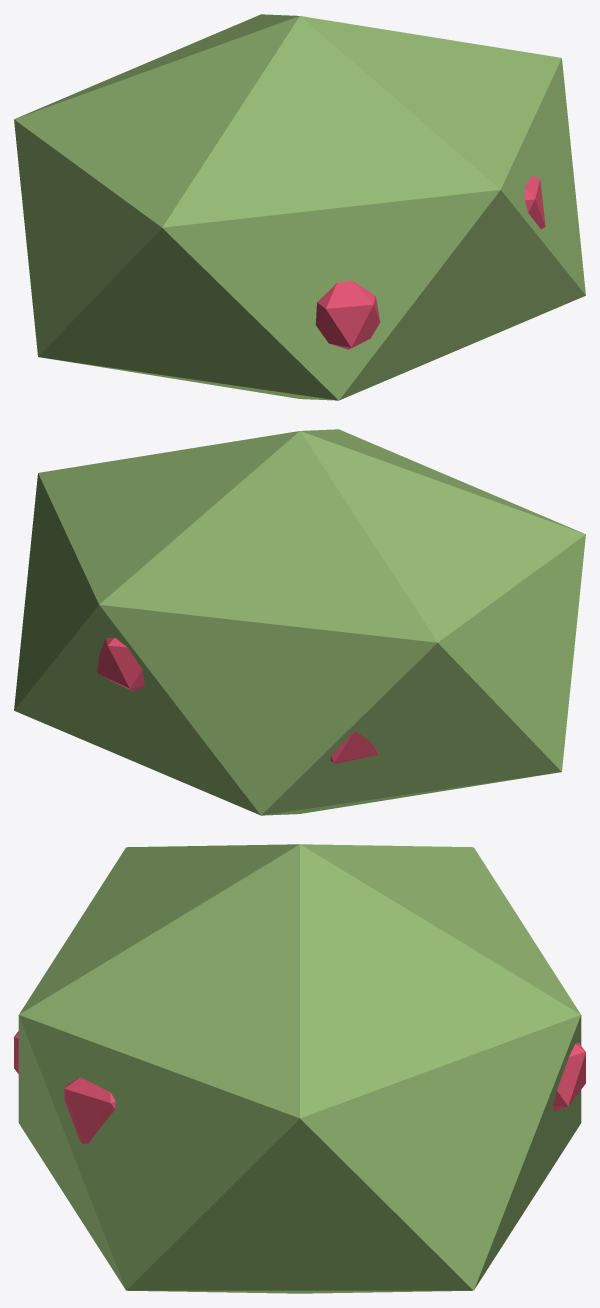
File: berry_bush.glb
3 renders of one model, top to bottom at view 1: azimuth 30°, elevation 25°; view 2: azimuth 150°, elevation 25°; view 3: azimuth 270°, elevation 25°, orthographic. The views are drawn at different scales.
Visible parts, largest first — view 1: Berry_Bush.001, Berry_4.001, Berry_5.001; view 2: Berry_Bush.001, Berry_1.001, Berry_2.001; view 3: Berry_Bush.001, Berry_5.001, Berry_1.001.
Boxes of the visible parts, x1=… form: Berry_Bush.001: x1=14, y1=14, x2=585, y2=400; Berry_4.001: x1=315, y1=280, x2=380, y2=349; Berry_5.001: x1=524, y1=175, x2=545, y2=228; Berry_Bush.001: x1=14, y1=429, x2=585, y2=815; Berry_1.001: x1=97, y1=637, x2=144, y2=691; Berry_2.001: x1=330, y1=731, x2=378, y2=763; Berry_Bush.001: x1=18, y1=844, x2=581, y2=1293; Berry_5.001: x1=64, y1=1077, x2=115, y2=1143; Berry_1.001: x1=552, y1=1042, x2=585, y2=1111.
Bounding box in the file's own units: 1.82 × 1.28 × 1.47.
